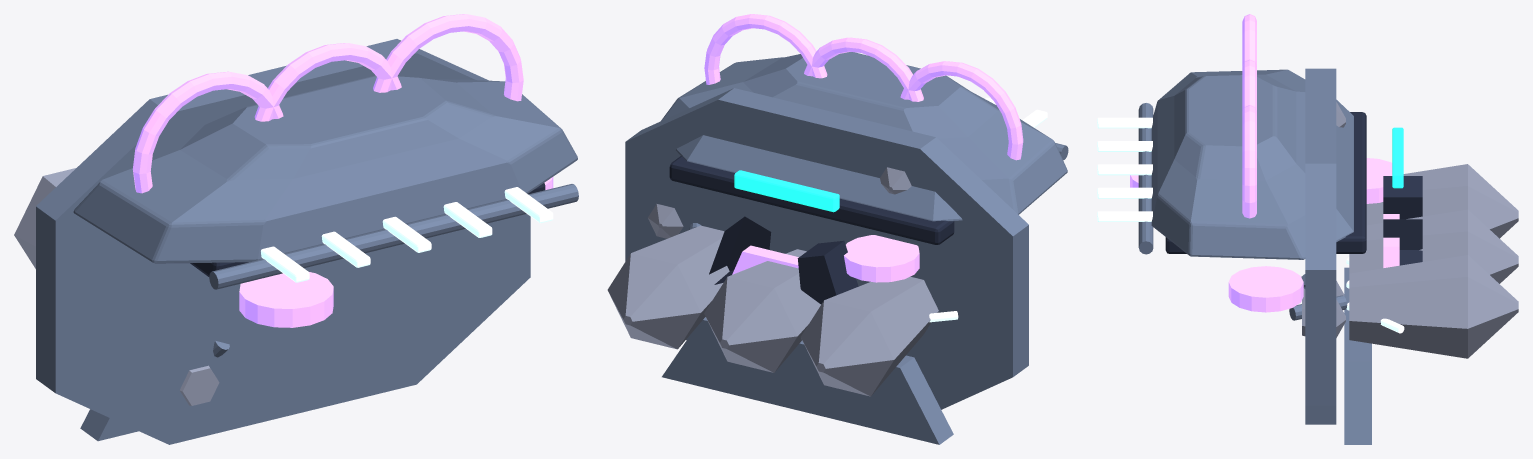
File: lumen_refinery.glb
3 views of the same model, side by side, from view 1: azimuth 30°, elevation 25°; view 2: azimuth 150°, elevation 25°; view 3: azimuth 270°, elevation 25° (orthographic). The views are drawn at different scales.
Visible parts, largest first — view 1: Geometric levitation plinth, Ore phase-separator · sloped process bed, Flux suspension pad.002, Magnetic separator cradle, Magnetic separator cradle.002, Magnetic separator cradle.001, Light-guided ore conveyor roller, Solarit phase separator, Light-guided ore conveyor roller.003, Light-guided ore conveyor roller.001, Light-guided ore conveyor roller.004, Faceted gravitic foot.002 (+7 smaller); view 2: Geometric levitation plinth, Ore phase-separator · sloped process bed, Angular ore intake, Solarit phase separator, Solarit phase separator.002, Solarit phase separator.001, Floating central armor slab, Flux suspension pad.001, Magnetic separator cradle, Magnetic separator cradle.002, Ore intake cheek, TeamColor (+5 smaller); view 3: Ore phase-separator · sloped process bed, Solarit phase separator.002, Geometric levitation plinth, Solarit phase separator.001, Solarit phase separator, Angular ore intake, Flux suspension pad, Floating central armor slab, Magnetic separator cradle.002, Ore intake cheek, Ore intake cheek.001, Flux suspension pad.001 (+10 smaller).
Boxes of the visible parts, box(x1,y1,x2,y2) form: Geometric levitation plinth: box(36, 39, 530, 444); Ore phase-separator · sloped process bed: box(73, 75, 577, 263); Flux suspension pad.002: box(239, 272, 333, 327); Magnetic separator cradle: box(132, 71, 283, 193); Magnetic separator cradle.002: box(373, 14, 523, 101); Magnetic separator cradle.001: box(254, 43, 401, 121); Light-guided ore conveyor roller: box(209, 244, 334, 289); Solarit phase separator: box(14, 168, 75, 268); Light-guided ore conveyor roller.003: box(406, 199, 517, 237); Light-guided ore conveyor roller.001: box(278, 229, 395, 273); Light-guided ore conveyor roller.004: box(460, 184, 578, 229); Faceted gravitic foot.002: box(179, 365, 219, 405); Geometric levitation plinth: box(625, 88, 1028, 409); Ore phase-separator · sloped process bed: box(661, 52, 1067, 221); Angular ore intake: box(662, 317, 953, 444); Solarit phase separator: box(801, 276, 938, 396); Solarit phase separator.002: box(607, 225, 729, 349); Solarit phase separator.001: box(704, 249, 820, 372); Floating central armor slab: box(669, 156, 954, 244); Flux suspension pad.001: box(844, 235, 919, 282); Magnetic separator cradle: box(900, 61, 1023, 160); Magnetic separator cradle.002: box(704, 14, 827, 84); Ore intake cheek: box(797, 240, 858, 304); TeamColor: box(734, 170, 839, 212); Ore phase-separator · sloped process bed: box(1151, 69, 1353, 259); Solarit phase separator.002: box(1349, 255, 1518, 358); Geometric levitation plinth: box(1305, 68, 1336, 424); Solarit phase separator.001: box(1349, 209, 1518, 283); Solarit phase separator: box(1366, 164, 1518, 238); Angular ore intake: box(1344, 267, 1371, 444); Flux suspension pad: box(1228, 266, 1303, 312); Floating central armor slab: box(1165, 112, 1366, 253); Magnetic separator cradle.002: box(1242, 105, 1256, 218); Ore intake cheek: box(1383, 176, 1422, 219); Ore intake cheek.001: box(1383, 219, 1422, 265); Flux suspension pad.001: box(1366, 158, 1392, 203).
Bounding box in the file's own units: 2.65 × 2.12 × 2.59.
